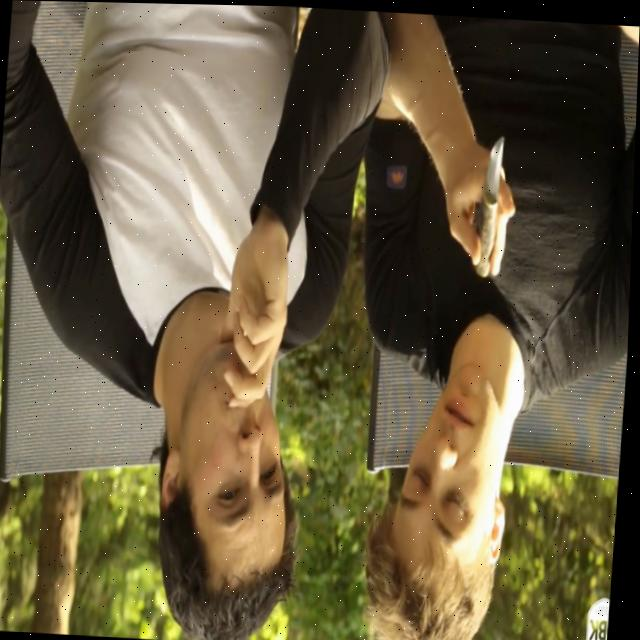knife: (465, 131, 513, 283)
